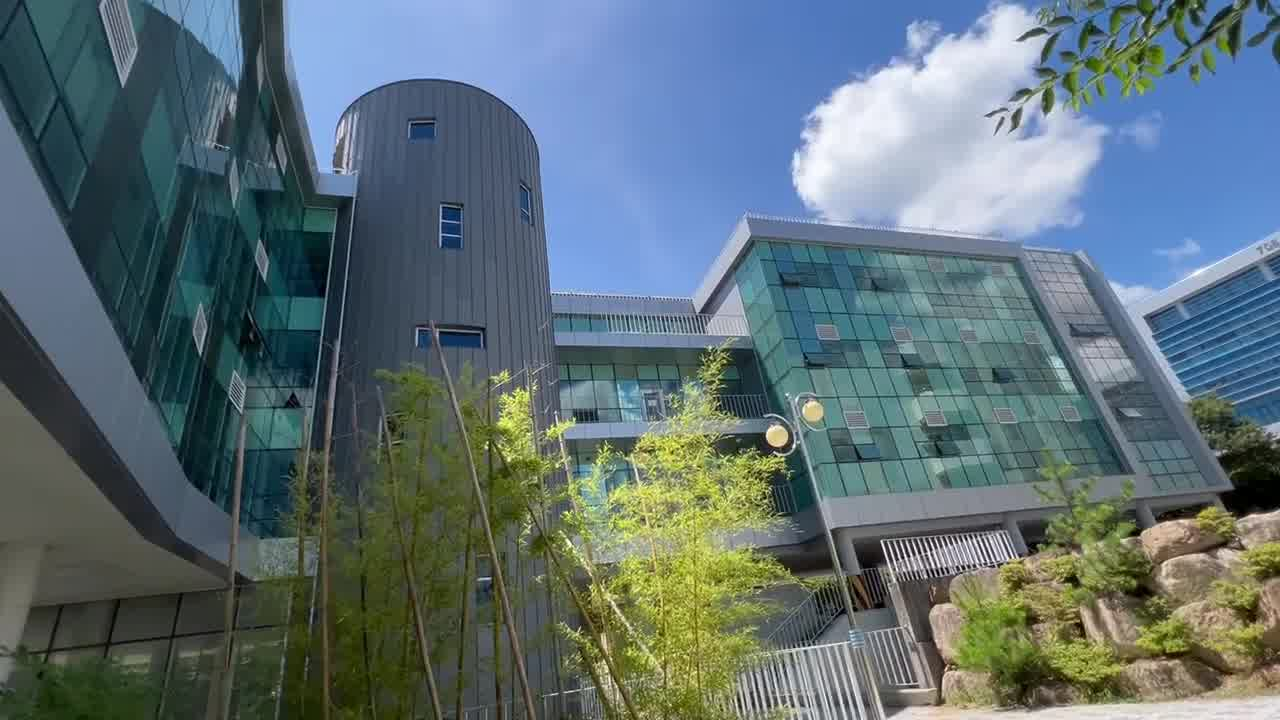medium: (0, 2, 1184, 544)
